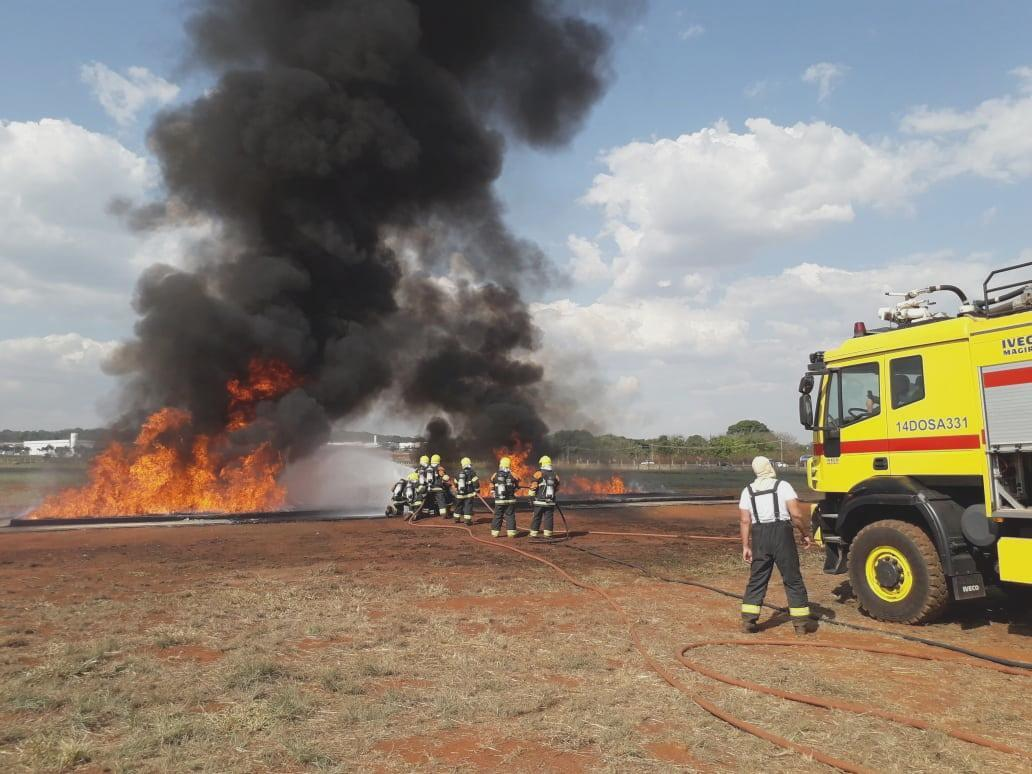Fire: (25, 416, 291, 521), (222, 358, 293, 403), (501, 443, 535, 492), (570, 470, 626, 496)
